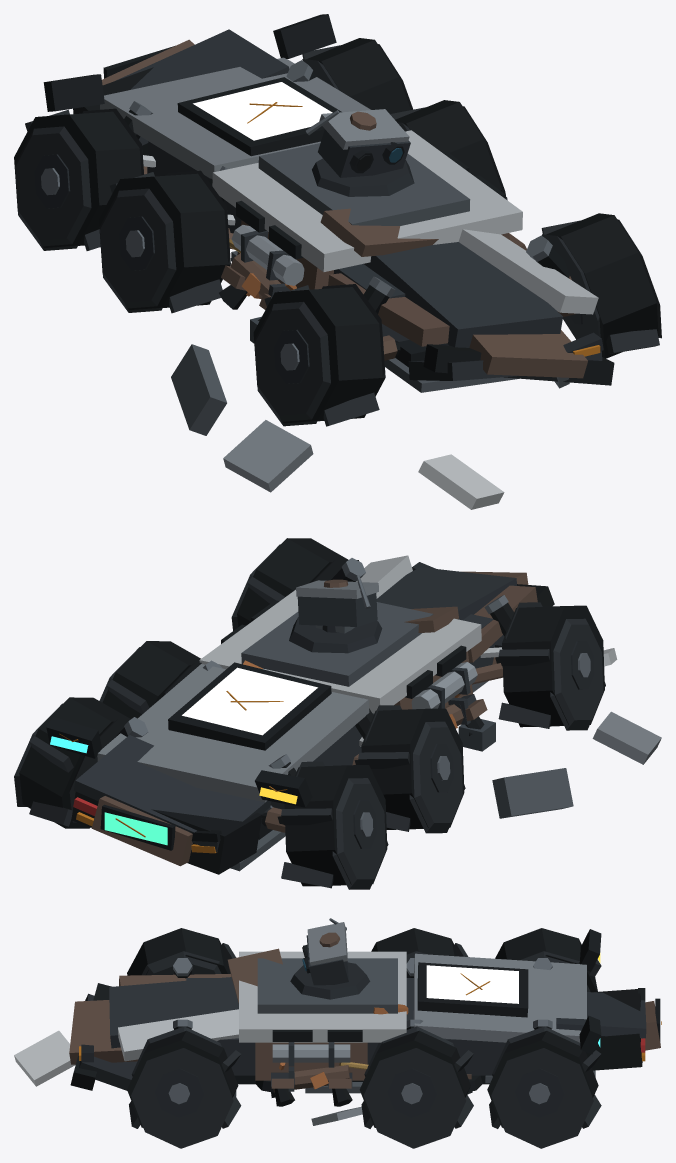
The model's file is r47xs_recon_rover_d2_lod1.glb.
3 renders of one model, top to bottom at view 1: azimuth 30°, elevation 25°; view 2: azimuth 150°, elevation 25°; view 3: azimuth 270°, elevation 25°, orthographic. The views are drawn at different scales.
Parts seen in each view (by area): view 1: CHASSIS_ARMOR_BODY, ZONE_FRONT_BUMPER, WHEEL_FL, WHEEL_ML, WHEEL_RL, WHEEL_FR, ZONE_FLANK_NEG_X, ZONE_REAR_PANEL, SENSOR_MAST_HEAD, WHEEL_RR, DISPLAY_FDAI_TELEMETRY_PANEL, WHEEL_MR (+6 smaller); view 2: CHASSIS_ARMOR_BODY, ZONE_REAR_PANEL, WHEEL_FL, WHEEL_RL, WHEEL_ML, ZONE_FRONT_BUMPER, WHEEL_RR, DISPLAY_FDAI_TELEMETRY_PANEL, WHEEL_FR, ZONE_FLANK_NEG_X, WHEEL_MR, SENSOR_MAST_HEAD (+8 smaller); view 3: CHASSIS_ARMOR_BODY, ZONE_FRONT_BUMPER, WHEEL_FR, WHEEL_RR, WHEEL_MR, ZONE_FLANK_POS_X, ZONE_REAR_PANEL, WHEEL_FL, DISPLAY_FDAI_TELEMETRY_PANEL, SENSOR_MAST_HEAD, WHEEL_RL, DEBRIS_FRONT_BEAK (+5 smaller).
Boxes of the visible parts, <box> form: CHASSIS_ARMOR_BODY: <box>100,57,522,367</box>; ZONE_FRONT_BUMPER: <box>328,229,614,392</box>; WHEEL_FL: <box>253,284,385,426</box>; WHEEL_ML: <box>99,170,230,313</box>; WHEEL_RL: <box>14,108,144,250</box>; WHEEL_FR: <box>541,213,661,358</box>; ZONE_FLANK_NEG_X: <box>43,74,333,299</box>; ZONE_REAR_PANEL: <box>73,29,289,155</box>; SENSOR_MAST_HEAD: <box>306,109,410,177</box>; WHEEL_RR: <box>302,38,413,113</box>; DISPLAY_FDAI_TELEMETRY_PANEL: <box>193,82,332,140</box>; WHEEL_MR: <box>390,100,505,193</box>; CHASSIS_ARMOR_BODY: <box>97,589,494,839</box>; ZONE_REAR_PANEL: <box>71,735,285,874</box>; WHEEL_FL: <box>498,602,605,730</box>; WHEEL_RL: <box>281,761,388,889</box>; WHEEL_ML: <box>358,705,465,833</box>; ZONE_FRONT_BUMPER: <box>356,555,554,692</box>; WHEEL_RR: <box>14,697,130,828</box>; DISPLAY_FDAI_TELEMETRY_PANEL: <box>182,667,317,735</box>; WHEEL_FR: <box>231,538,358,630</box>; ZONE_FLANK_NEG_X: <box>255,645,477,807</box>; WHEEL_MR: <box>99,641,201,718</box>; SENSOR_MAST_HEAD: <box>296,575,378,633</box>; CHASSIS_ARMOR_BODY: <box>186,948,586,1093</box>; ZONE_FRONT_BUMPER: <box>69,974,238,1096</box>; WHEEL_FR: <box>127,1026,241,1148</box>; WHEEL_RR: <box>487,1026,601,1148</box>; WHEEL_MR: <box>359,1026,473,1148</box>; ZONE_FLANK_POS_X: <box>255,1015,601,1092</box>; ZONE_REAR_PANEL: <box>485,988,660,1083</box>; WHEEL_FL: <box>127,928,236,975</box>; DISPLAY_FDAI_TELEMETRY_PANEL: <box>426,965,518,1003</box>; SENSOR_MAST_HEAD: <box>302,918,348,985</box>; WHEEL_RL: <box>495,928,601,992</box>; DEBRIS_FRONT_BEAK: <box>14,1030,75,1086</box>.
Size of the model in its own units: 2.97 by 1.65 by 5.18.
